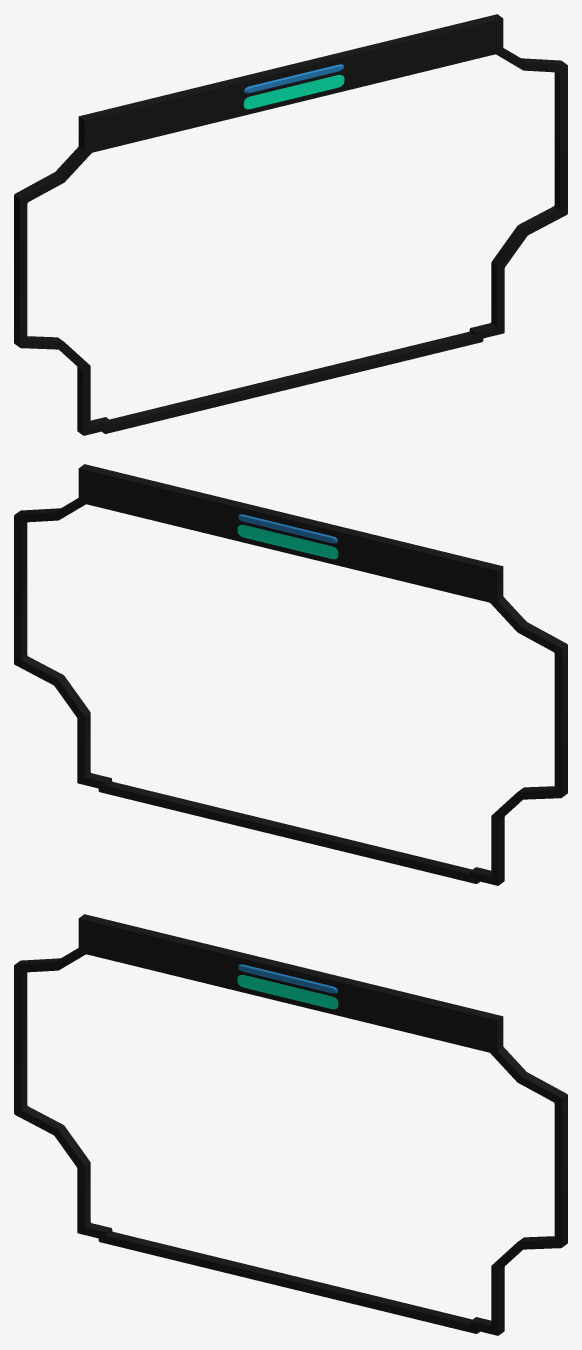
Rendered from CorridorFrame.fbx.
3 renders of one model, top to bottom at view 1: azimuth 30°, elevation 25°; view 2: azimuth 150°, elevation 25°; view 3: azimuth 330°, elevation 25°, orthographic.
Visible parts, largest first — view 1: corridor_frame002, corridor_frame_plate002, corridor_frame_leds002; view 2: corridor_frame002, corridor_frame_plate002, corridor_frame_leds002; view 3: corridor_frame002, corridor_frame_plate002, corridor_frame_leds002.
Boxes of the visible parts, x1,y1,x2,y2 form: corridor_frame002: [14, 14, 567, 435]; corridor_frame_plate002: [243, 75, 344, 109]; corridor_frame_leds002: [244, 64, 343, 93]; corridor_frame002: [14, 464, 567, 885]; corridor_frame_plate002: [237, 525, 338, 559]; corridor_frame_leds002: [238, 514, 337, 543]; corridor_frame002: [14, 914, 567, 1335]; corridor_frame_plate002: [237, 975, 338, 1009]; corridor_frame_leds002: [238, 964, 337, 993].
Size of the model in its own units: 540 by 13.01 by 300.
